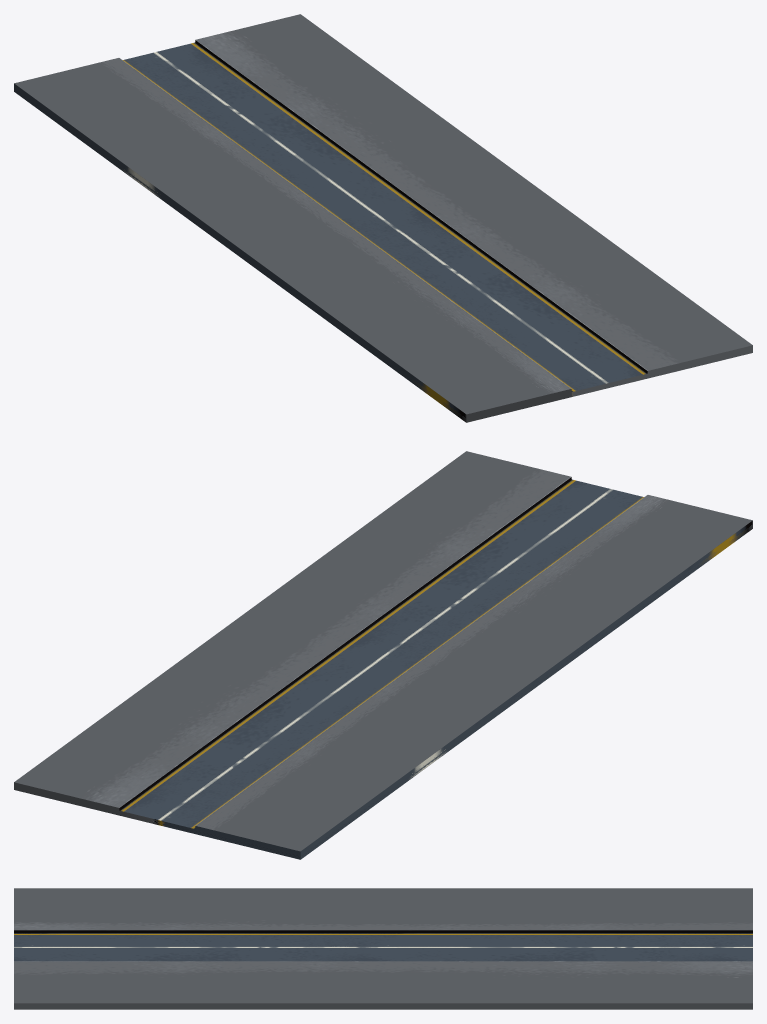
File: Road.fbx
3 renders of one model, top to bottom at view 1: azimuth 30°, elevation 25°; view 2: azimuth 150°, elevation 25°; view 3: azimuth 270°, elevation 25°, orthographic. The views are drawn at different scales.
Visible parts, largest first — view 1: Cube; view 2: Cube; view 3: Cube.
Part boxes in pixels (<box>): Cube: <box>14,14,752,422</box>; Cube: <box>14,451,752,859</box>; Cube: <box>14,888,752,1009</box>.
Bounding box in the file's own units: 991 × 27.63 × 2710.
